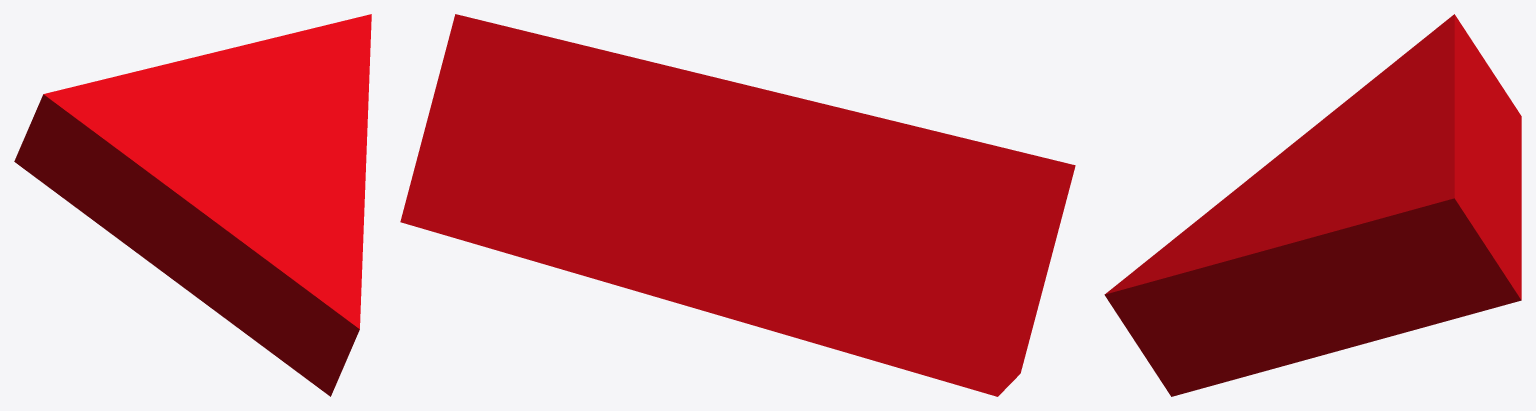
The model's file is downButton.fbx.
3 views of the same model, side by side, from view 1: azimuth 30°, elevation 25°; view 2: azimuth 150°, elevation 25°; view 3: azimuth 270°, elevation 25° (orthographic). The views are drawn at different scales.
Parts seen in each view (by area): view 1: Cube.086; view 2: Cube.086; view 3: Cube.086.
Boxes of the visible parts, bbox=[...] form: Cube.086: bbox=[14, 14, 371, 396]; Cube.086: bbox=[400, 14, 1075, 396]; Cube.086: bbox=[1104, 14, 1521, 396].
Bounding box in the file's own units: 17.86 × 13.14 × 17.09.
